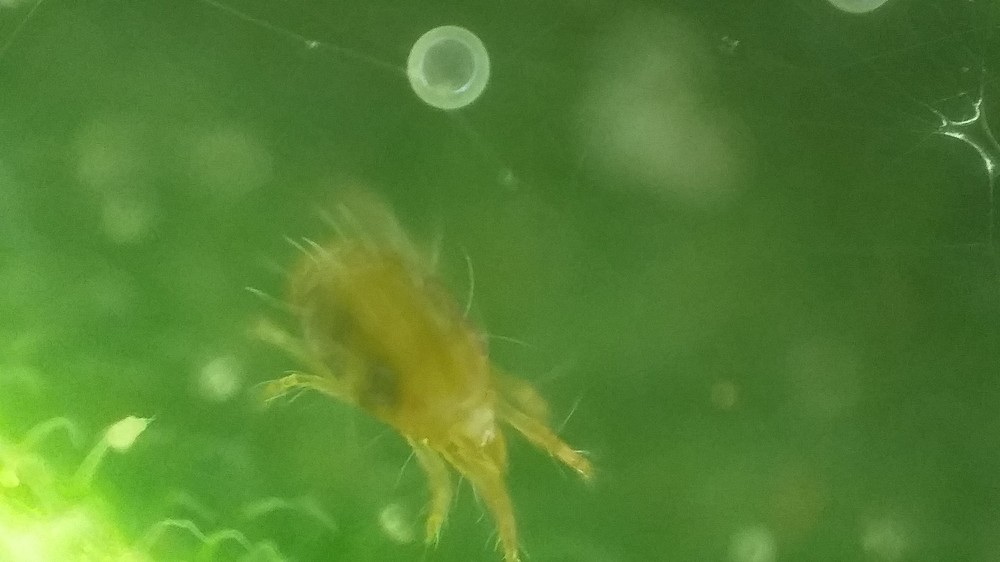Aracnido Rojo: (230, 192, 623, 562)
